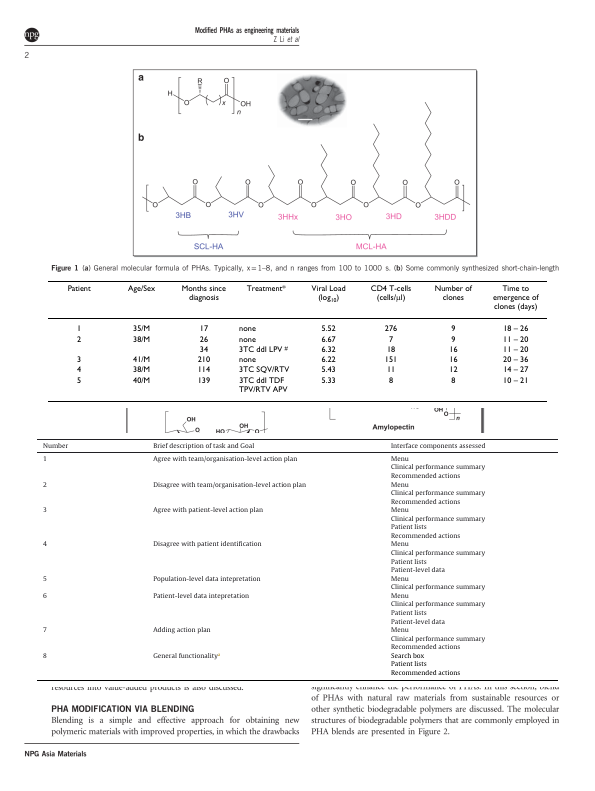borderless: (36, 438, 558, 680), (47, 279, 547, 401)
cell: (389, 507, 485, 541), (389, 541, 485, 575), (389, 593, 485, 627), (389, 481, 485, 507), (389, 456, 485, 481), (389, 627, 485, 652), (389, 653, 461, 678), (389, 575, 485, 592), (491, 283, 539, 312), (152, 481, 306, 490), (152, 456, 298, 464), (152, 541, 262, 550), (152, 575, 261, 584), (238, 375, 288, 394), (369, 282, 412, 304), (152, 442, 255, 451), (152, 507, 263, 515), (180, 283, 226, 302), (389, 442, 486, 451), (152, 593, 249, 601), (310, 283, 346, 304), (433, 283, 472, 302), (152, 652, 221, 661), (238, 365, 290, 375), (238, 344, 288, 354), (152, 627, 211, 635), (245, 283, 286, 293), (126, 283, 156, 293), (502, 324, 529, 334), (502, 334, 529, 344), (502, 355, 529, 365), (502, 365, 529, 375), (502, 375, 529, 385), (41, 442, 69, 451), (66, 283, 91, 293), (502, 345, 529, 354), (132, 324, 151, 334), (132, 334, 151, 344), (132, 355, 151, 365), (132, 365, 151, 375), (132, 375, 151, 385), (238, 324, 256, 334), (238, 334, 256, 344), (238, 355, 256, 365), (320, 324, 336, 334), (320, 334, 336, 344), (320, 355, 336, 365), (320, 365, 336, 375), (320, 375, 336, 385), (383, 324, 398, 334), (196, 355, 211, 365), (383, 355, 398, 365), (196, 365, 211, 375), (196, 375, 211, 385), (320, 345, 336, 354), (198, 324, 209, 334), (198, 334, 209, 344), (385, 365, 396, 375), (448, 355, 458, 365), (448, 365, 458, 375), (198, 345, 209, 354), (385, 345, 396, 354), (448, 345, 458, 354), (387, 334, 394, 344), (387, 375, 394, 385), (76, 324, 82, 334), (450, 324, 456, 334), (76, 334, 82, 344), (450, 334, 456, 344), (76, 355, 82, 365), (76, 365, 82, 375), (76, 375, 82, 385), (450, 375, 456, 385), (41, 481, 47, 490), (41, 541, 47, 550), (41, 575, 47, 584), (41, 456, 47, 464), (41, 507, 47, 515), (41, 593, 47, 601), (41, 627, 47, 635), (41, 653, 47, 661)
